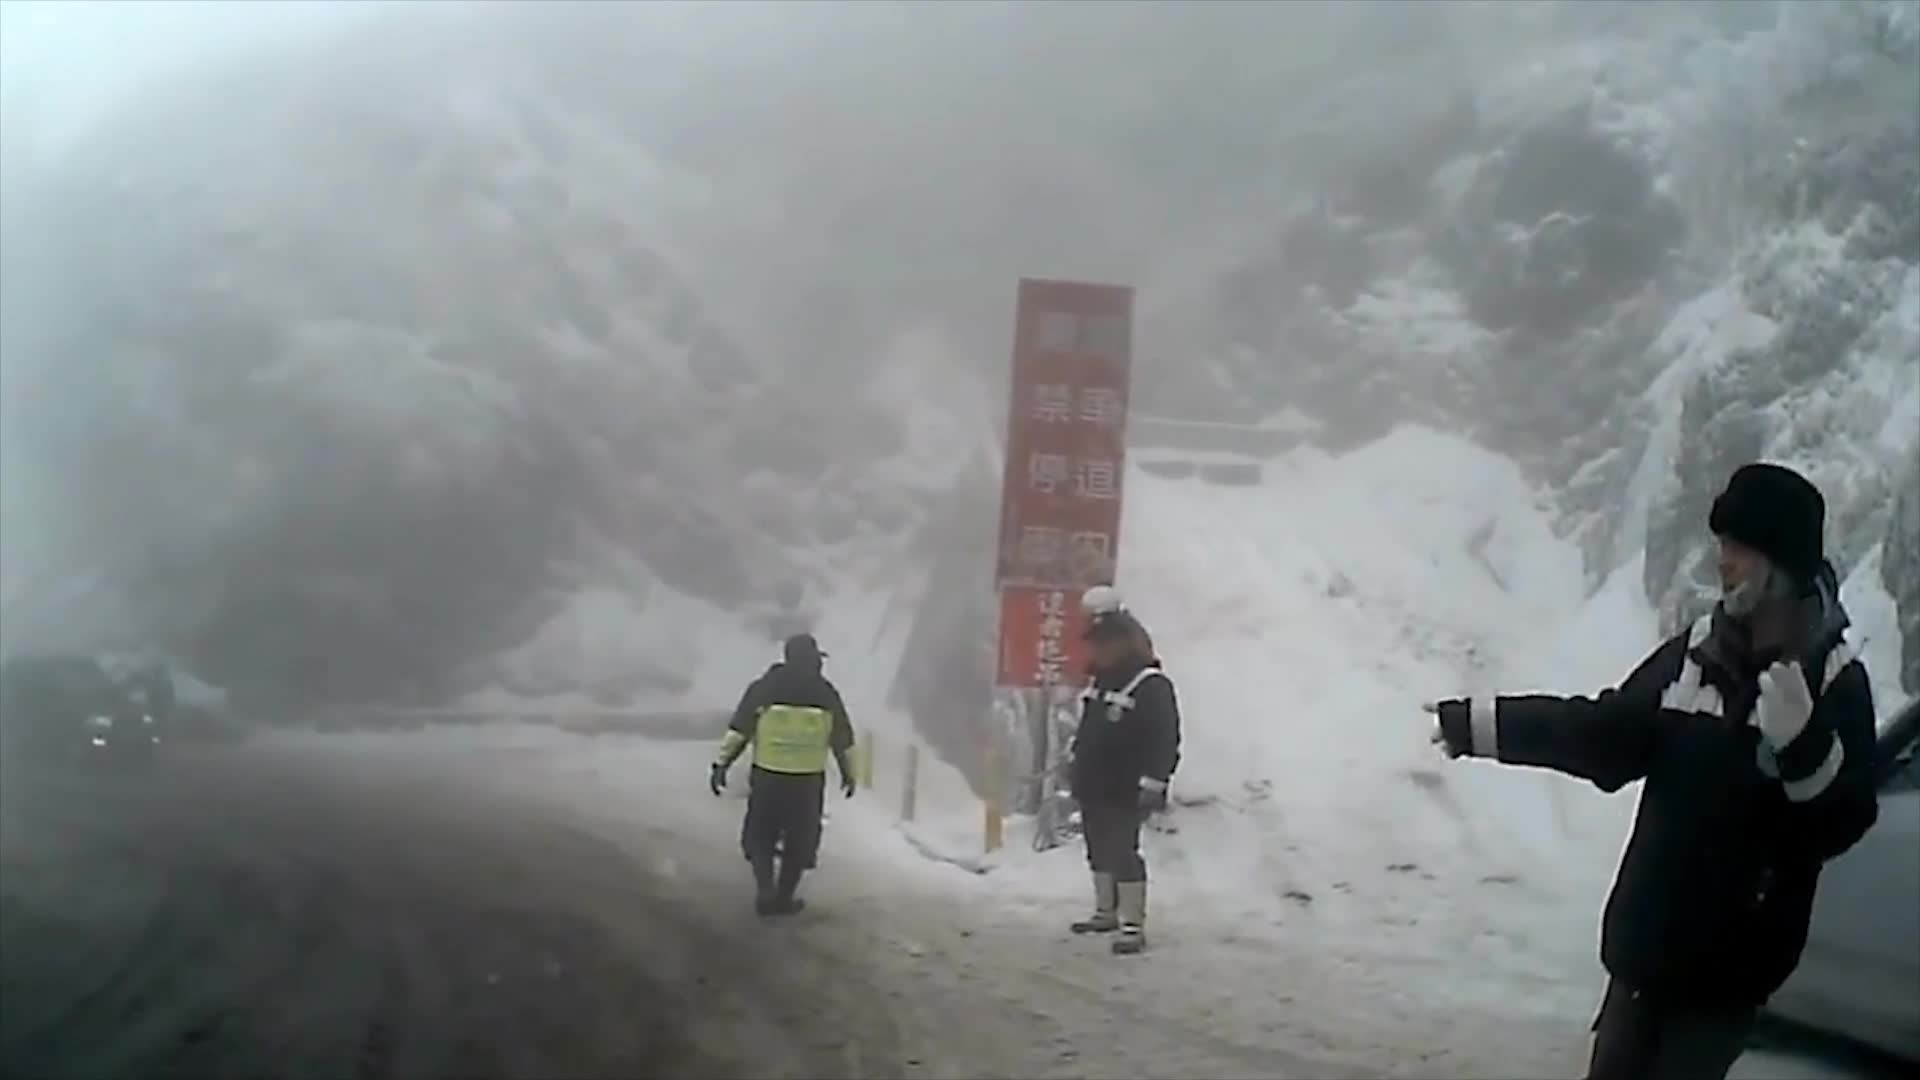pedestrian: (1413, 462, 1876, 1079), (1068, 610, 1185, 953), (710, 639, 855, 917)
vehicle: (1652, 693, 1920, 1080), (0, 653, 161, 773)
